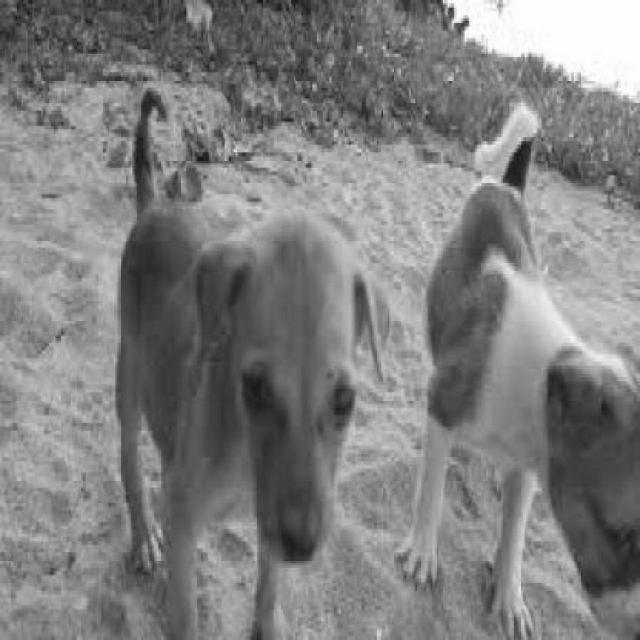Dog: (106, 80, 391, 634), (411, 145, 638, 637)
